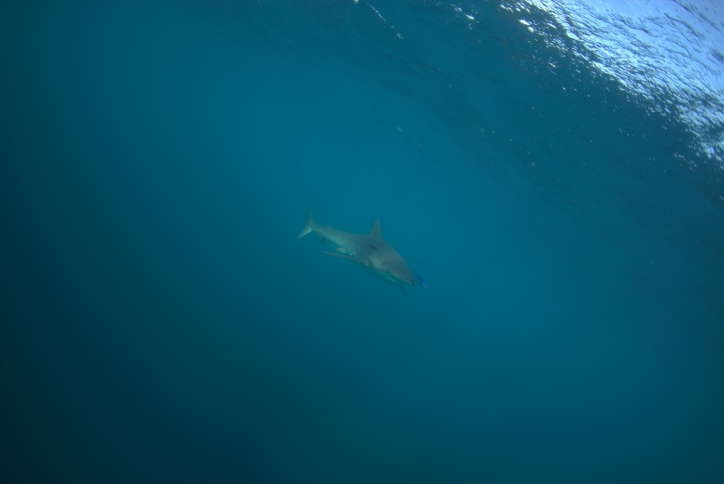Sedoso: (283, 190, 421, 301)
